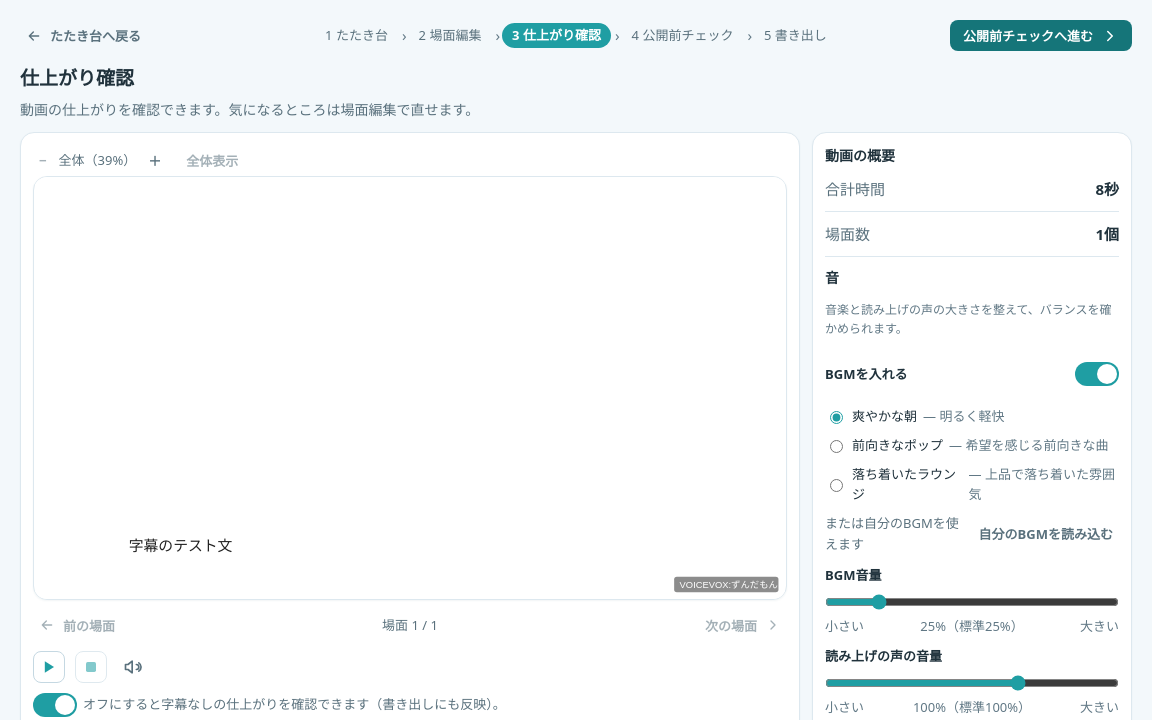
Test: PreviewScreen 字幕トグル（#547 P2-7） › トグルを切ると exportForm.withSubtitle が false になり、確認からも字幕が消える（書き出しと同じ設定）
Click the switch named "字幕を入れる" at coordinates (55, 705), box top-left (33, 693), bottom-right (77, 717)
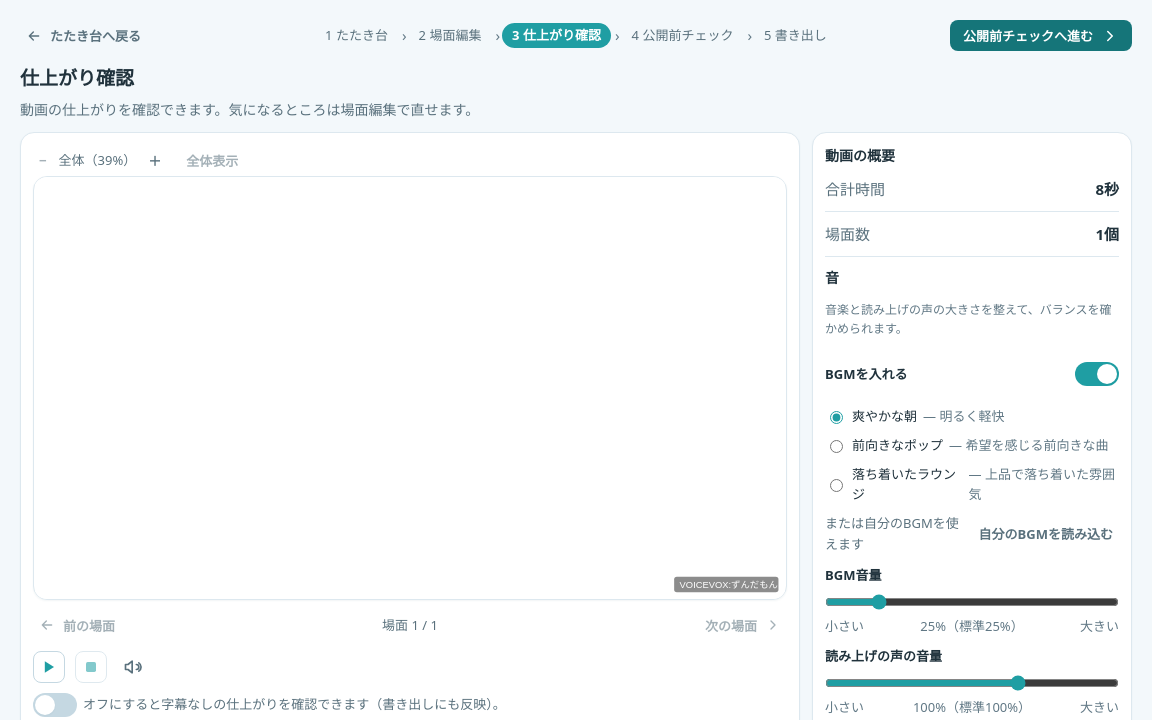
Now the text "字幕のテスト文" is gone
